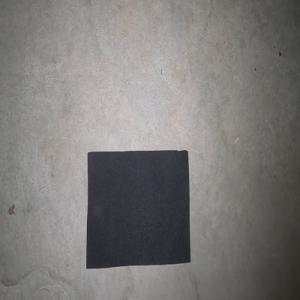PaintChip: (85, 149, 190, 268)
